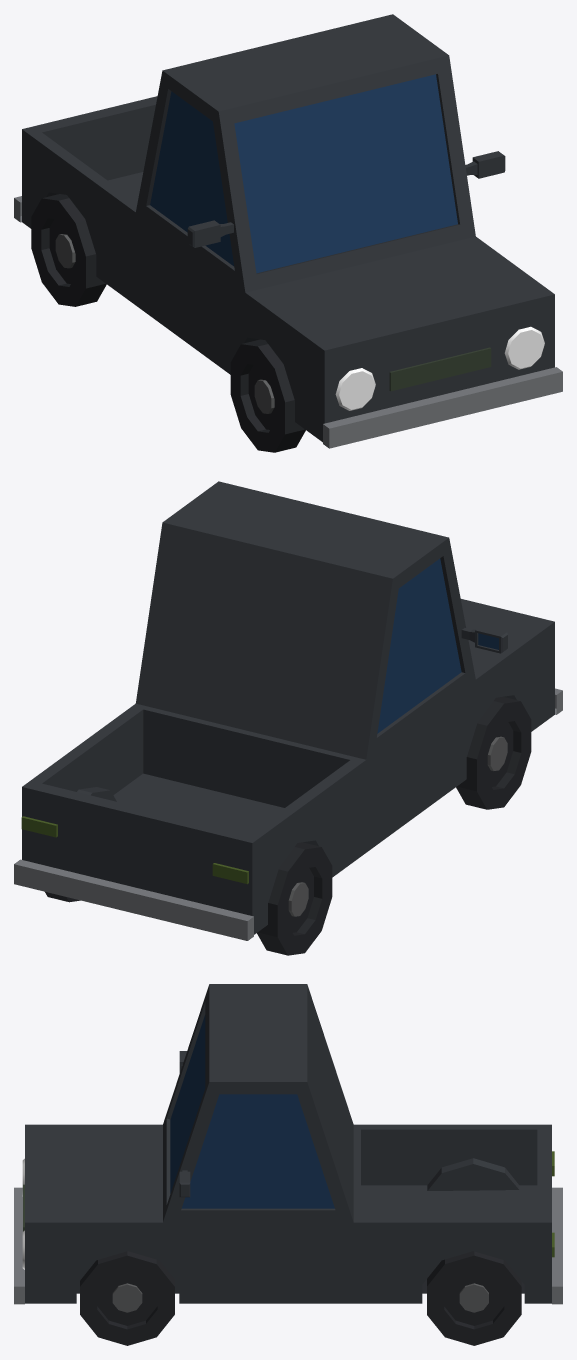
Rendered from Car_2.fbx.
3 renders of one model, top to bottom at view 1: azimuth 30°, elevation 25°; view 2: azimuth 150°, elevation 25°; view 3: azimuth 270°, elevation 25°, orthographic. The views are drawn at different scales.
Parts seen in each view (by area): view 1: Car_2; view 2: Car_2; view 3: Car_2.
Boxes of the visible parts, x1,y1,x2,y2 form: Car_2: [14, 14, 562, 452]; Car_2: [14, 481, 562, 955]; Car_2: [14, 984, 562, 1345].
Size of the model in its own units: 261 by 241 by 456.
